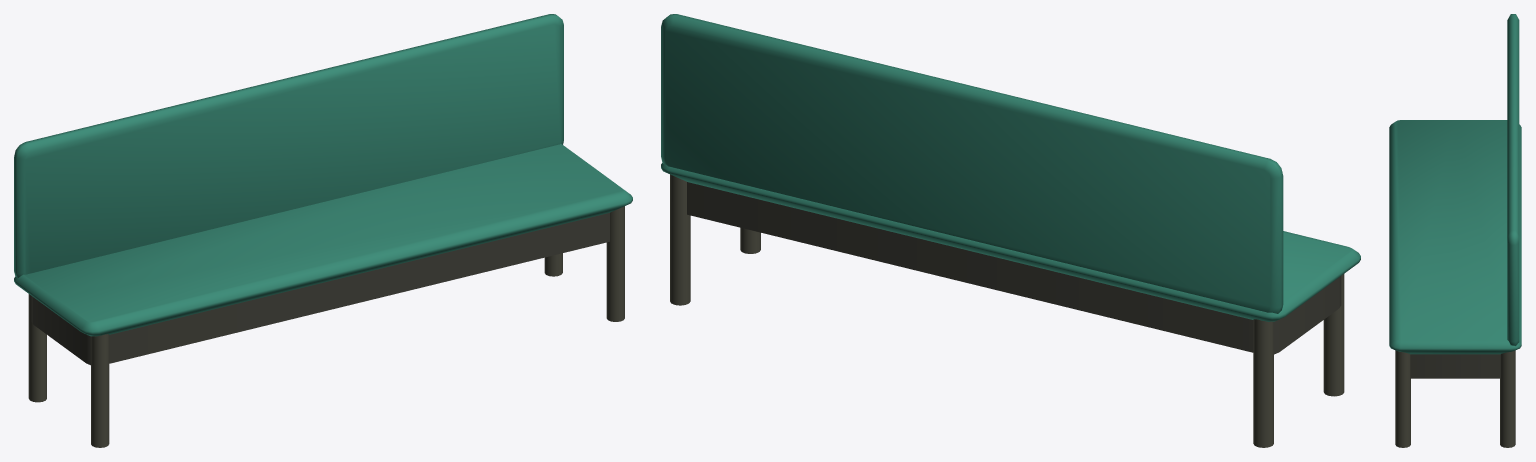
Rendered from EM_126_127_132_140_long_bench.glb.
The picture shows the model from 3 angles, left to right: view 1: azimuth 30°, elevation 25°; view 2: azimuth 150°, elevation 25°; view 3: azimuth 270°, elevation 25°; orthographic projection. The views are drawn at different scales.
Visible parts, largest first — view 1: back, bench, legs; view 2: back, bench, legs; view 3: bench, back, legs.
Part boxes in pixels (x1,y1,x2,y2): back: (14, 14, 563, 277); bench: (14, 144, 632, 365); legs: (28, 206, 624, 447); back: (661, 14, 1283, 313); bench: (661, 163, 1360, 354); legs: (670, 174, 1344, 447); bench: (1389, 120, 1521, 378); back: (1507, 14, 1519, 345); legs: (1395, 350, 1515, 447).
Size of the model in its own units: 3.04 by 1.35 by 0.75.
